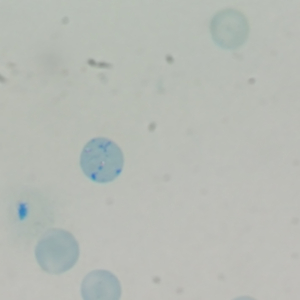aggregate reticulocyte: (78, 136, 126, 184)
erythrocyte: (32, 227, 81, 277), (208, 7, 251, 50)
